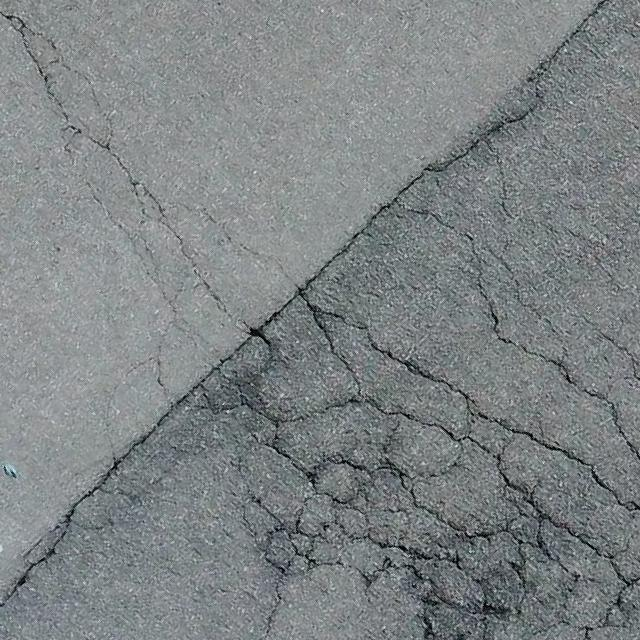GRIETA: (0, 337, 256, 610), (250, 97, 541, 336), (15, 14, 113, 128), (1, 14, 69, 130), (528, 0, 612, 92), (260, 579, 287, 639)
PIEL DE COCODRILO: (175, 158, 639, 639), (59, 129, 302, 459)
